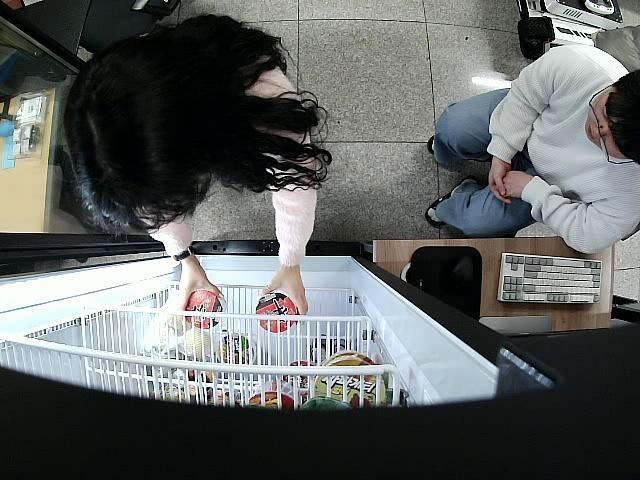02_shinRamen_S: (257, 292, 298, 332), (182, 290, 224, 328)
